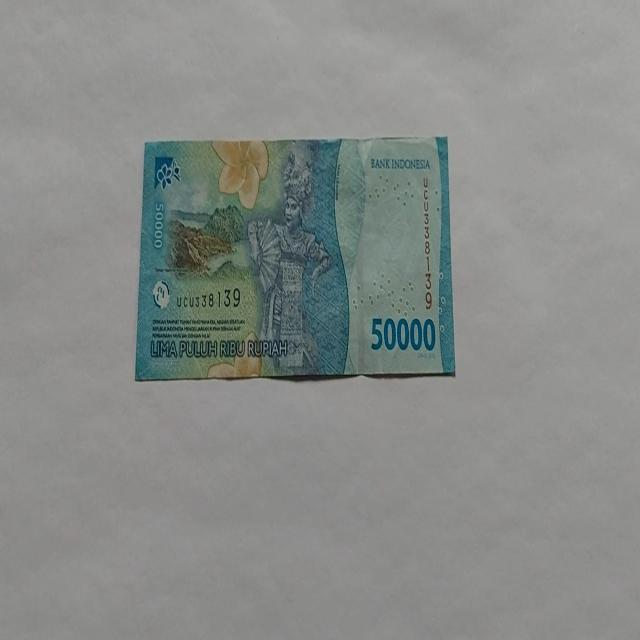lima puluh ribu rupiah: (134, 134, 456, 382)
